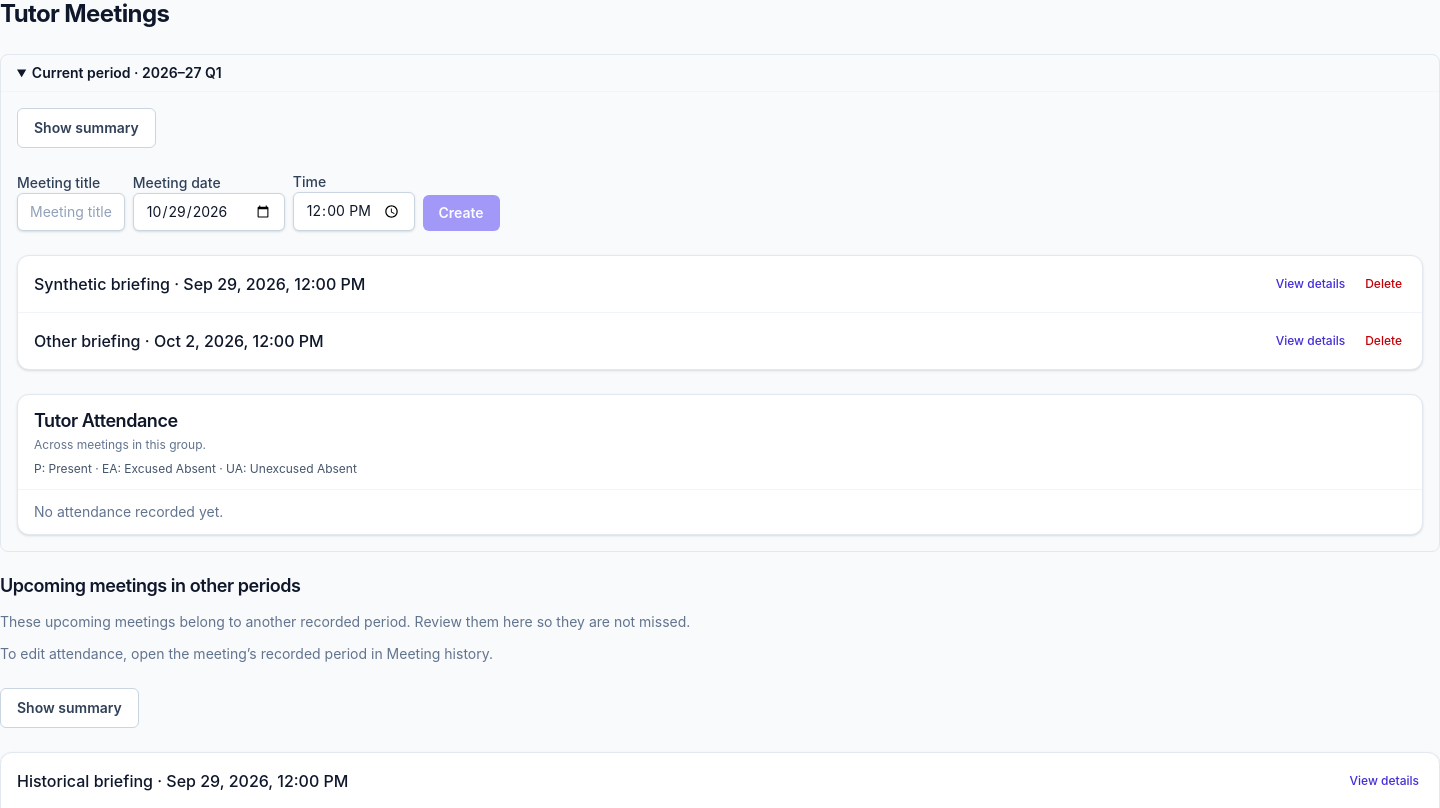
keeps the supplemental upcoming overview read-only while its owning history remains editable
Click the button "Synthetic briefing · Sep 29, 2026, 12:00 PM" at (102, 284), box 34,268 -> 1260,300
(page scrolled)
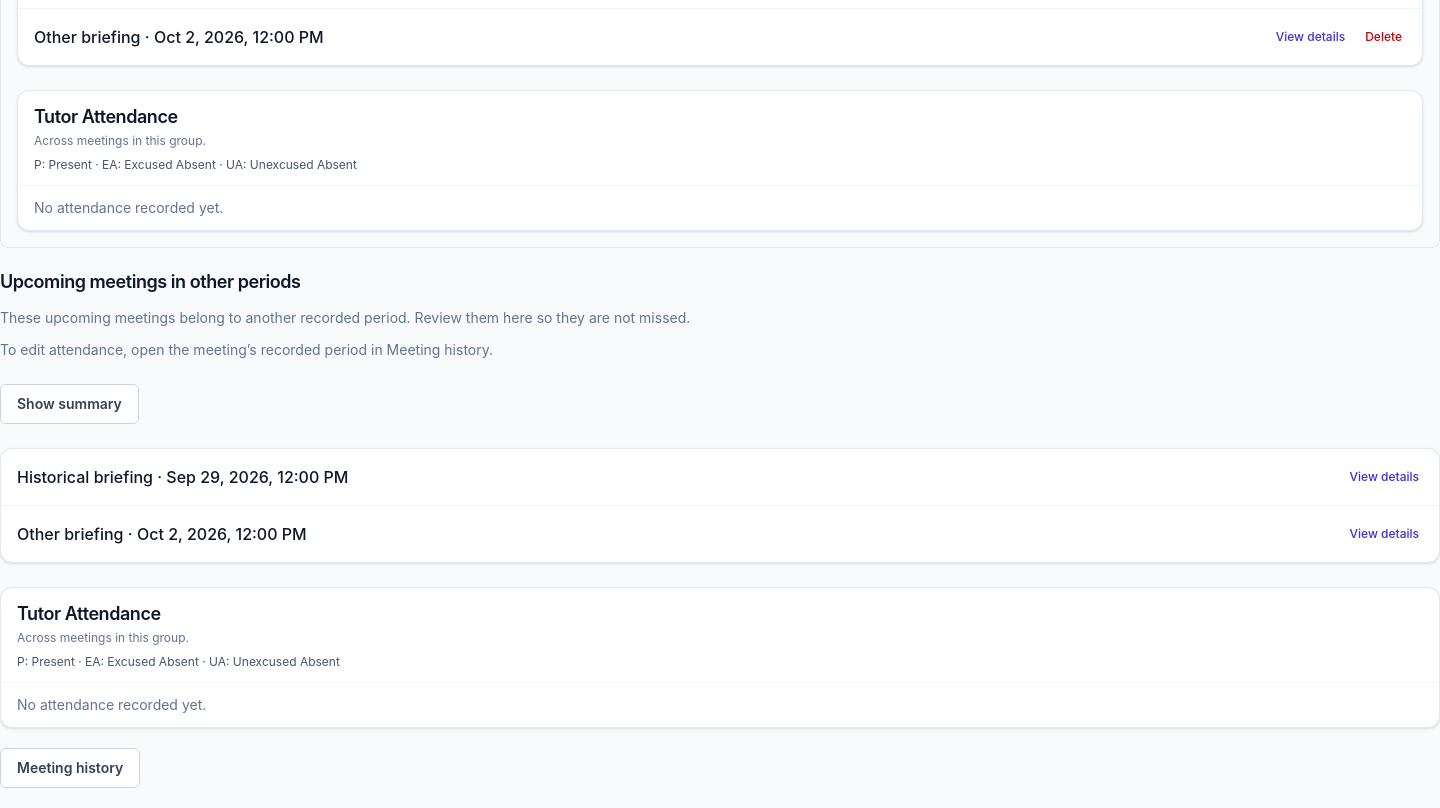
Click the button "Historical briefing · Sep 29, 2026, 12:00 PM" at (85, 477), box 17,461 -> 1334,493
(page scrolled)
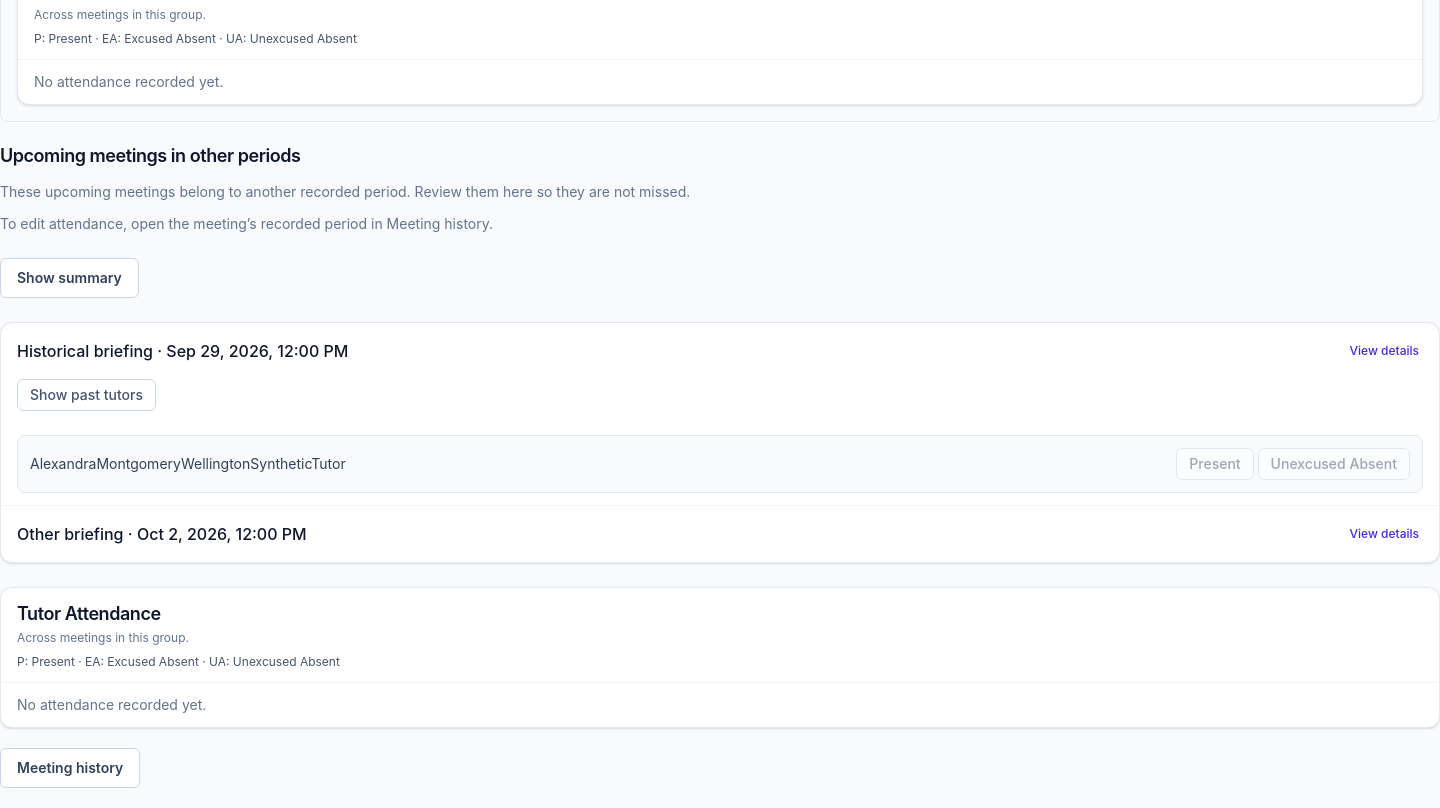
Expected: the button "Save Attendance" is not shown
Click the button "Meeting history" at (70, 768), box 0,748 -> 140,788
(page scrolled)
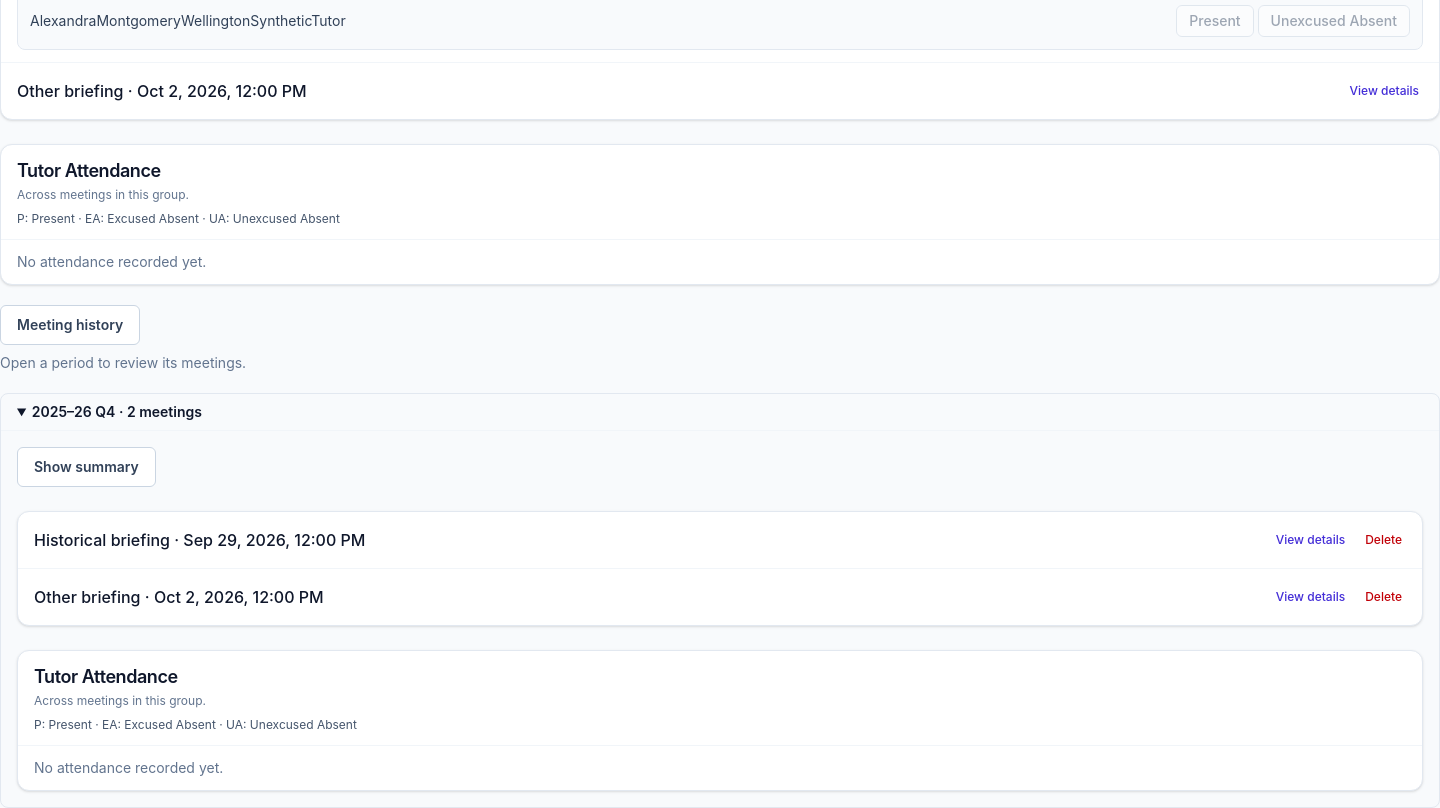
Click the button "Historical briefing · Sep 29, 2026, 12:00 PM" at (102, 540), box 34,524 -> 1260,556
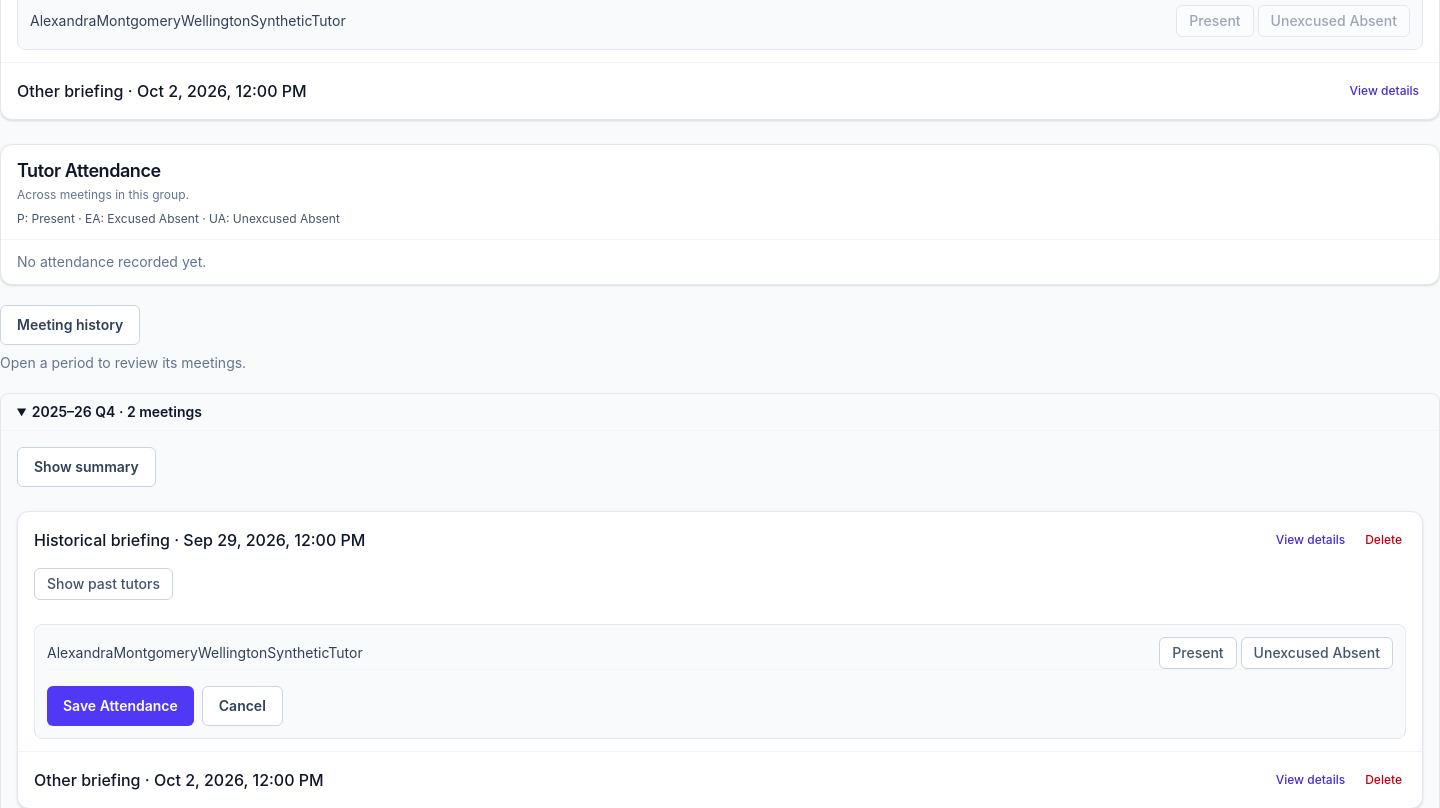
Expected: the button "Save Attendance" is shown, 47,686 -> 194,726
